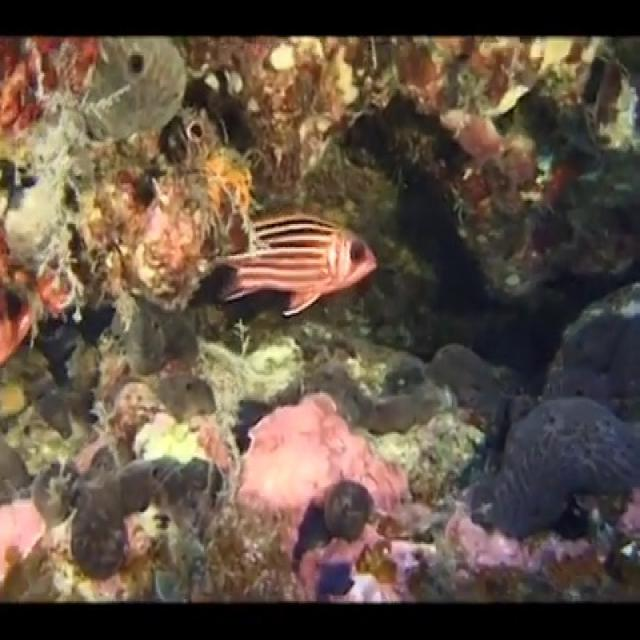Asker Baligi: (206, 208, 378, 320)
